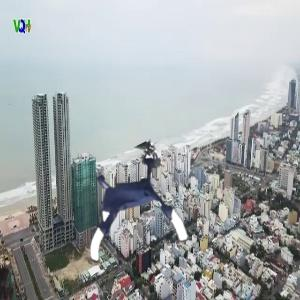drone: (73, 158, 182, 267)
